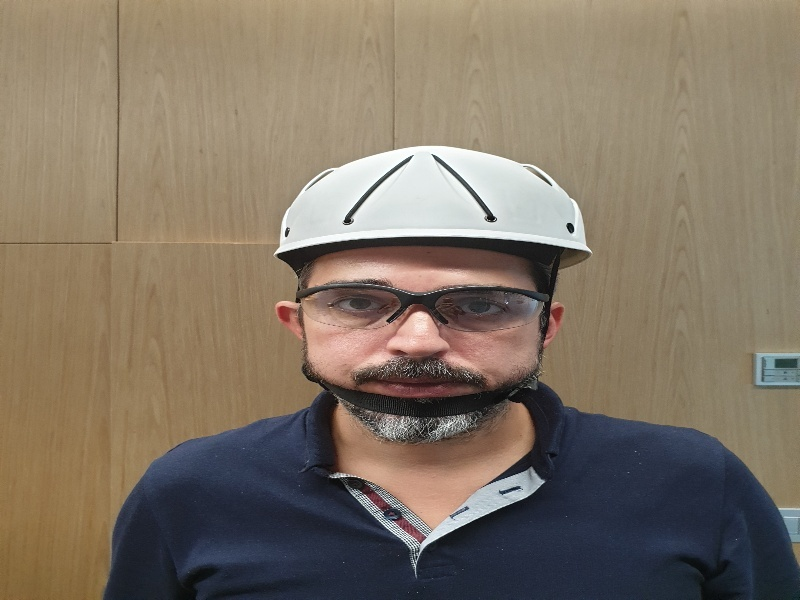baret: (272, 144, 592, 279)
gozluk: (282, 274, 556, 339)
